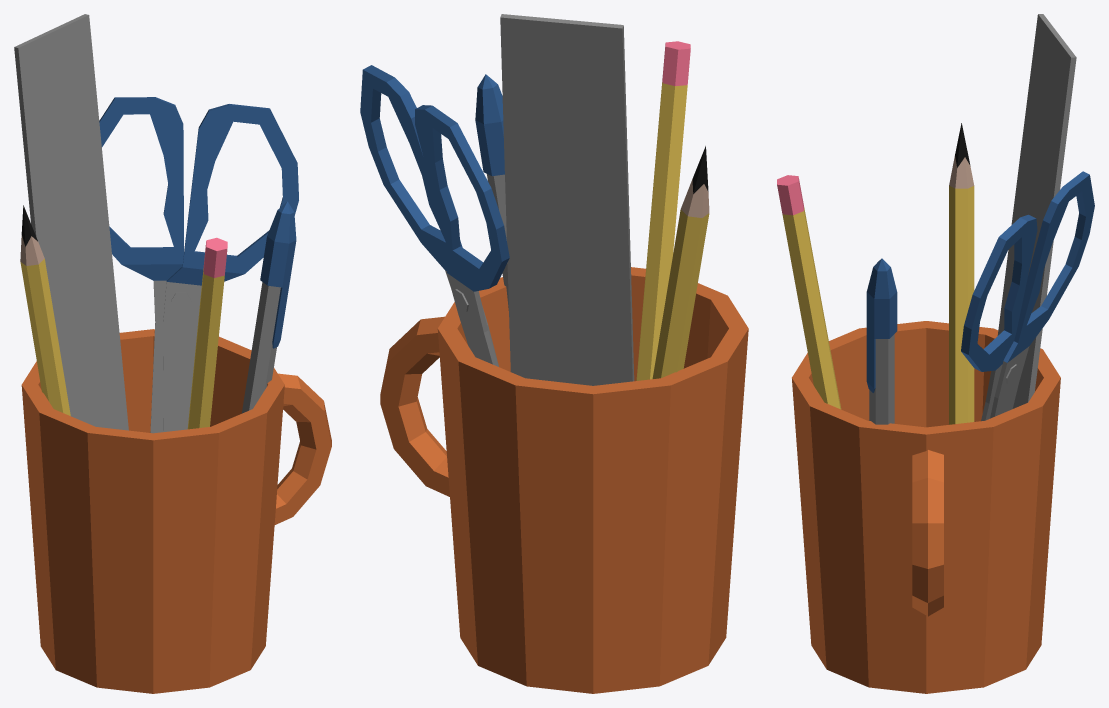
File: mug_with_office_tool_free_model.glb
3 renders of one model, left to right at view 1: azimuth 30°, elevation 25°; view 2: azimuth 150°, elevation 25°; view 3: azimuth 270°, elevation 25°, orthographic. The views are drawn at different scales.
Visible parts, largest first — view 1: Mug with office tools; view 2: Mug with office tools; view 3: Mug with office tools.
Part boxes in pixels (x1=…): Mug with office tools: x1=14, y1=14, x2=331, y2=693; Mug with office tools: x1=360, y1=14, x2=748, y2=693; Mug with office tools: x1=777, y1=14, x2=1094, y2=693.
Bounding box in the file's own units: 0.1057 × 0.1991 × 0.097.
Materials: 1 (1 with a texture image).
